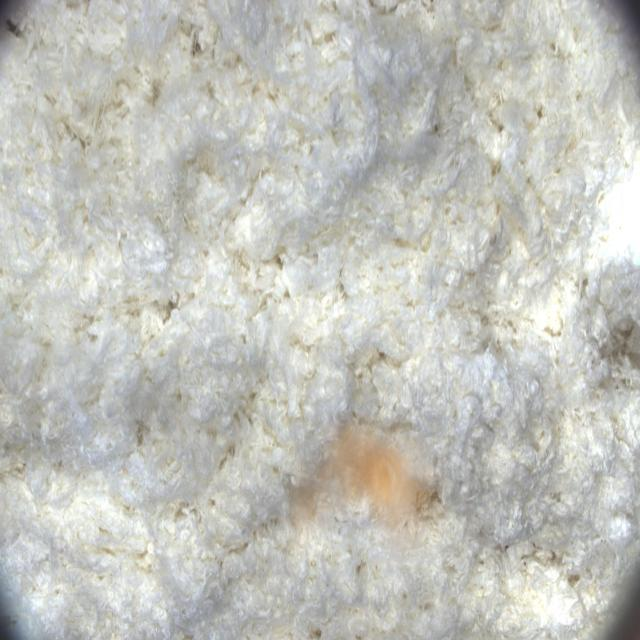dust: (286, 413, 451, 568)
